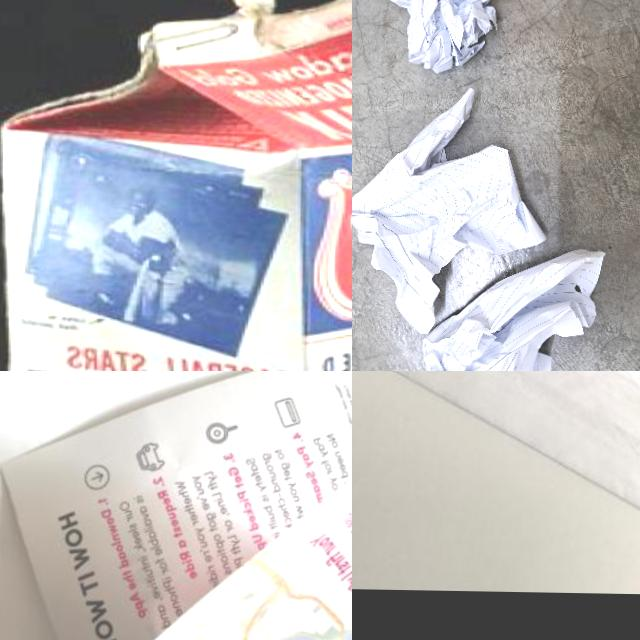caixinha: (0, 0, 352, 371)
papel: (0, 371, 352, 640), (352, 371, 640, 565), (352, 85, 549, 335), (418, 246, 607, 371), (386, 0, 517, 76)
